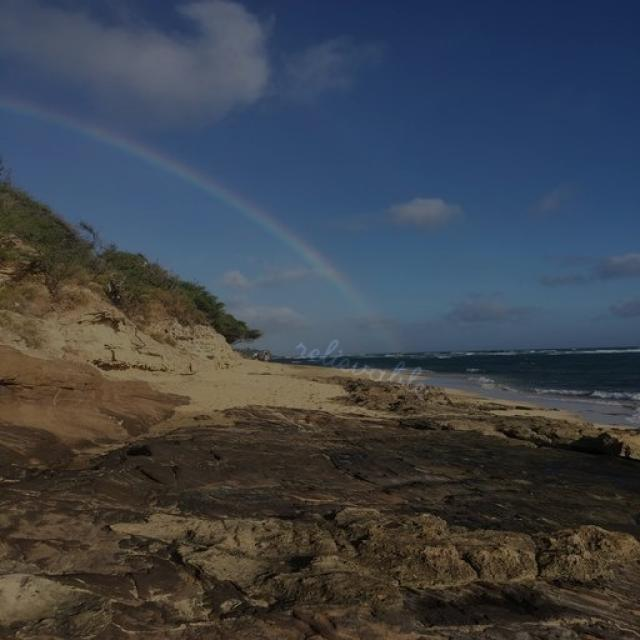watermark: (284, 325, 453, 404)
